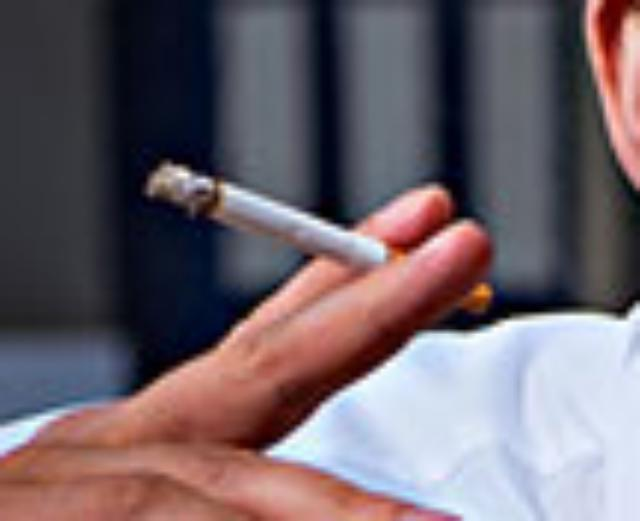Smoking: (137, 148, 391, 266)
